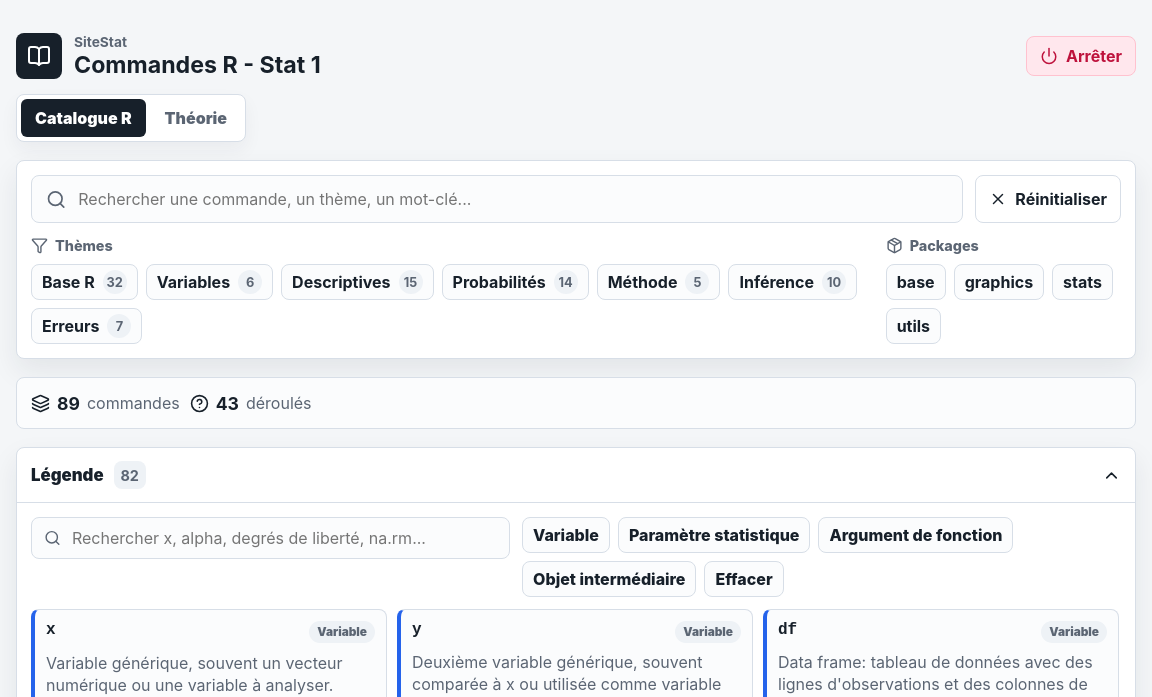
it: App › affiche la page théorie complète
Click the button "Théorie" at (196, 118), box top-left (151, 99), bottom-right (241, 137)
(page scrolled)
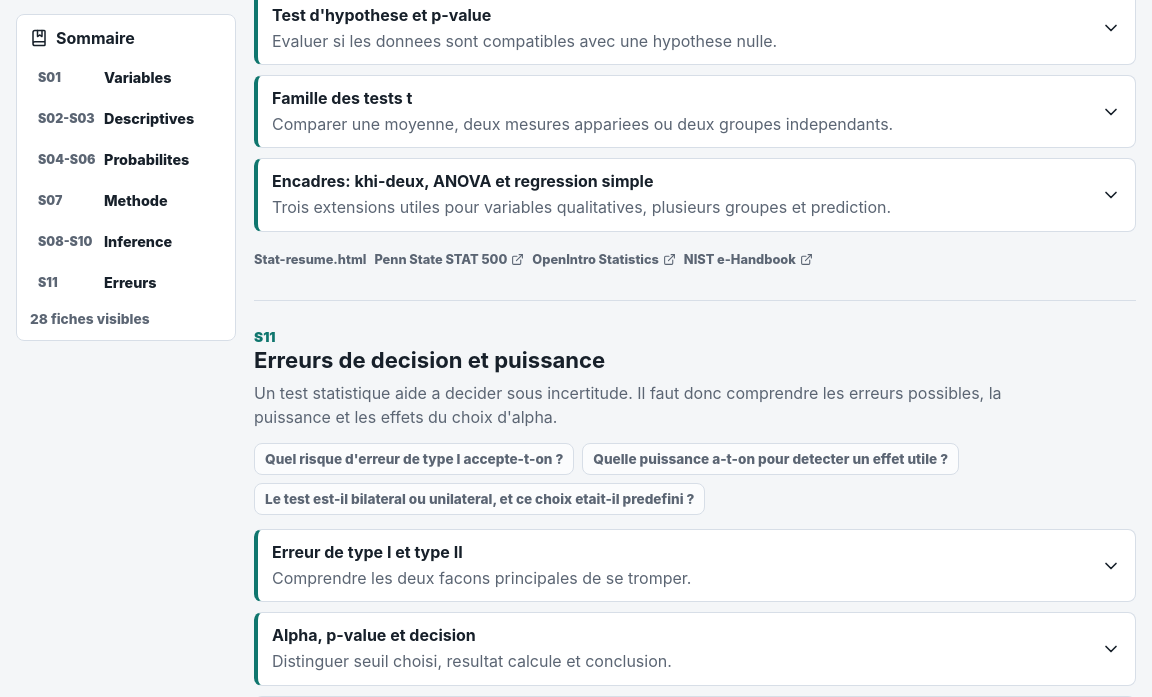
expect the heading "Erreurs de decision et puissance" is shown: met, box top-left (254, 347), bottom-right (605, 373)
